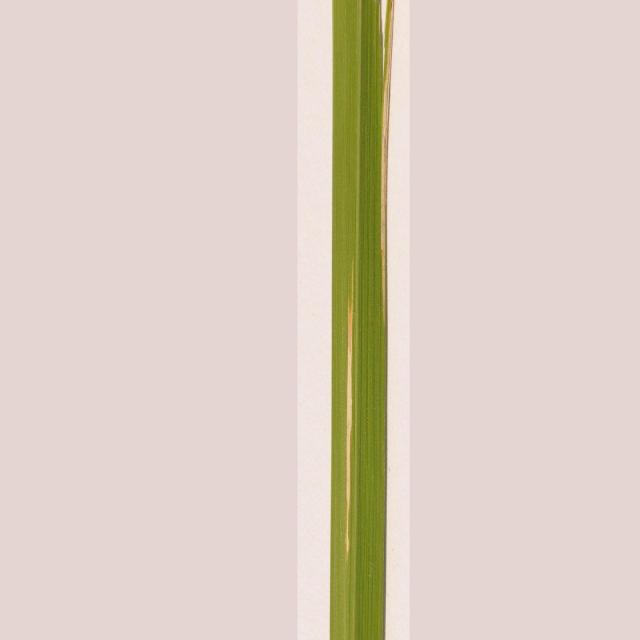Bacterial leaf blight: (331, 3, 395, 640)
